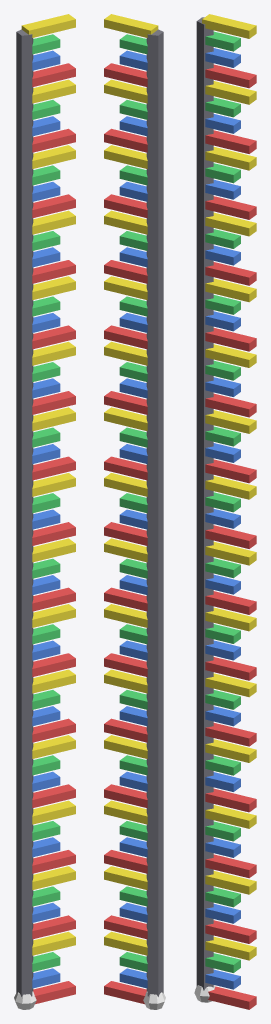
Rendered from DNA_StrandA_Straight.fbx.
3 views of the same model, side by side, from view 1: azimuth 30°, elevation 25°; view 2: azimuth 150°, elevation 25°; view 3: azimuth 330°, elevation 25° (orthographic).
Parts seen in each view (by area): view 1: DNA_StrandA_Straight; view 2: DNA_StrandA_Straight; view 3: DNA_StrandA_Straight.
Boxes of the visible parts, left/top/right/bottom form: DNA_StrandA_Straight: left=14, top=14, right=75, bottom=1009; DNA_StrandA_Straight: left=104, top=14, right=165, bottom=1009; DNA_StrandA_Straight: left=194, top=14, right=256, bottom=1009.
Size of the model in its own units: 0.0365 by 0.599 by 0.013.
